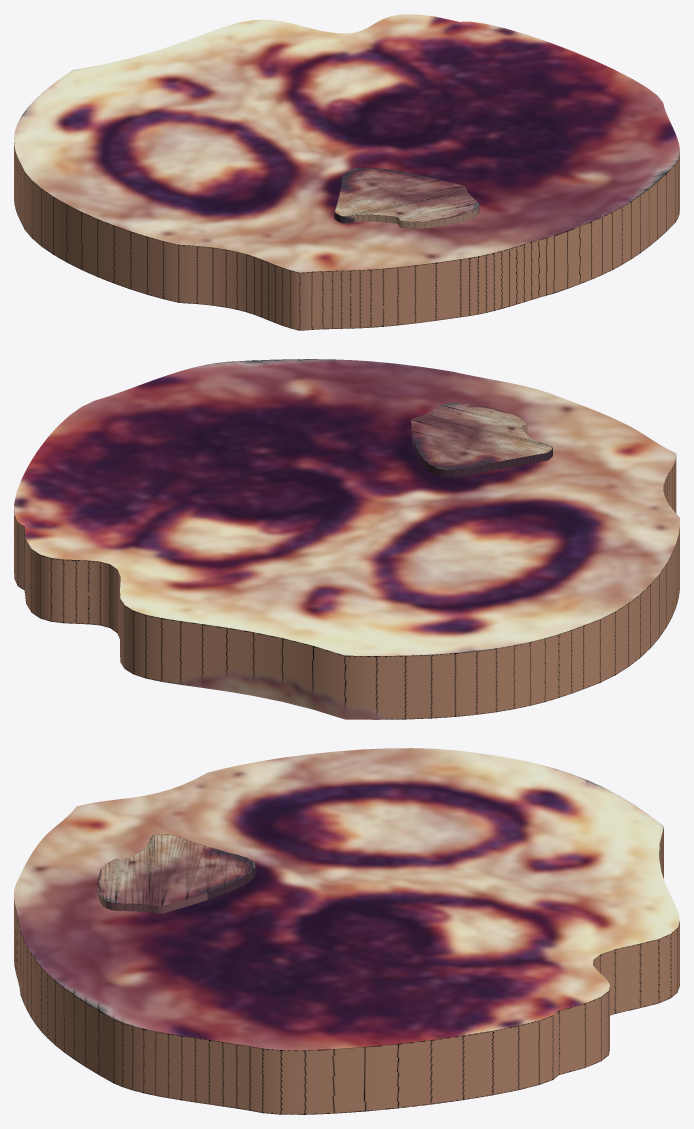
Rendered from mayhave-cookie.glb.
The picture shows the model from 3 angles, top to bottom: view 1: azimuth 30°, elevation 25°; view 2: azimuth 150°, elevation 25°; view 3: azimuth 270°, elevation 25°; orthographic projection. The views are drawn at different scales.
Visible parts, largest first — view 1: body, mouth; view 2: body, mouth; view 3: body, mouth.
Boxes of the visible parts, <box> form: body: <box>14,14,679,330</box>; mouth: <box>334,167,479,228</box>; body: <box>14,359,679,719</box>; mouth: <box>411,403,552,477</box>; body: <box>14,748,679,1114</box>; mouth: <box>97,834,255,913</box>.
Size of the model in its own units: 3.41 by 0.4116 by 3.18.
2 materials, 2 textured.
